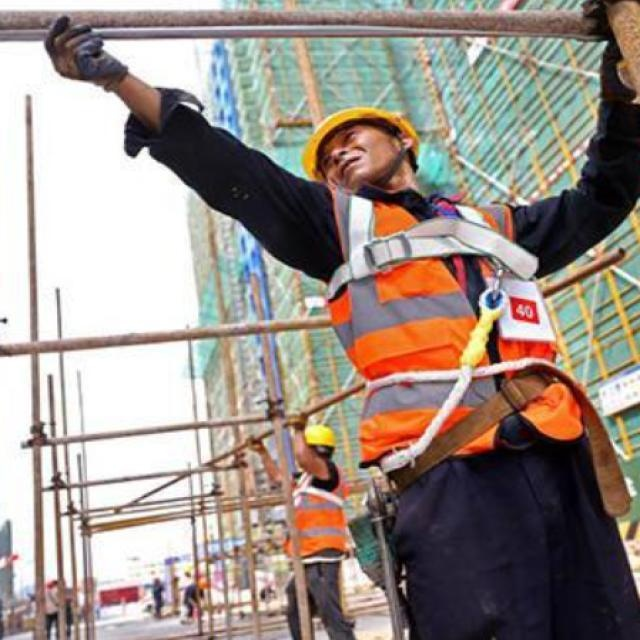Arnes_seguridad: (323, 186, 538, 333), (282, 457, 348, 512)
